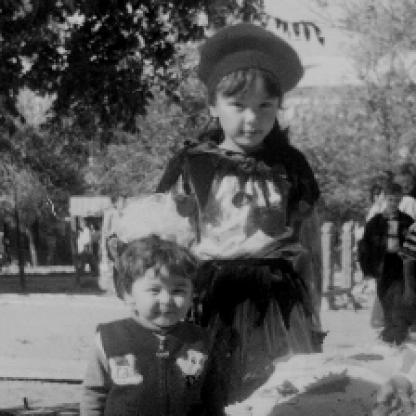child: (79, 235, 230, 415)
